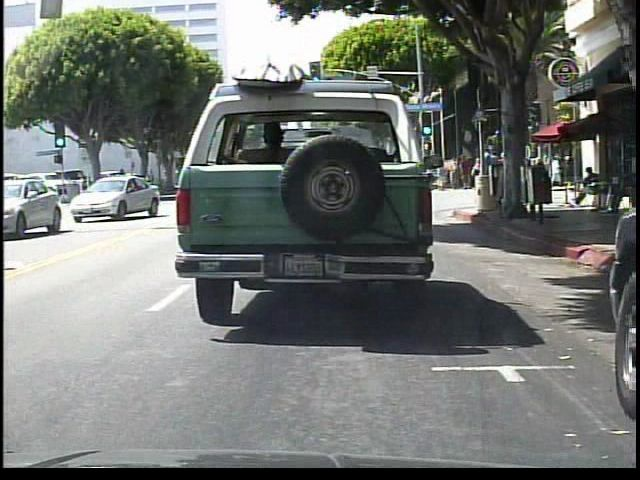person: (573, 166, 602, 211), (500, 148, 517, 215), (481, 141, 497, 205), (469, 154, 484, 206), (534, 158, 547, 202), (435, 160, 449, 194), (527, 163, 539, 202), (448, 157, 459, 190), (461, 155, 471, 190), (551, 156, 562, 186), (424, 168, 435, 193)
